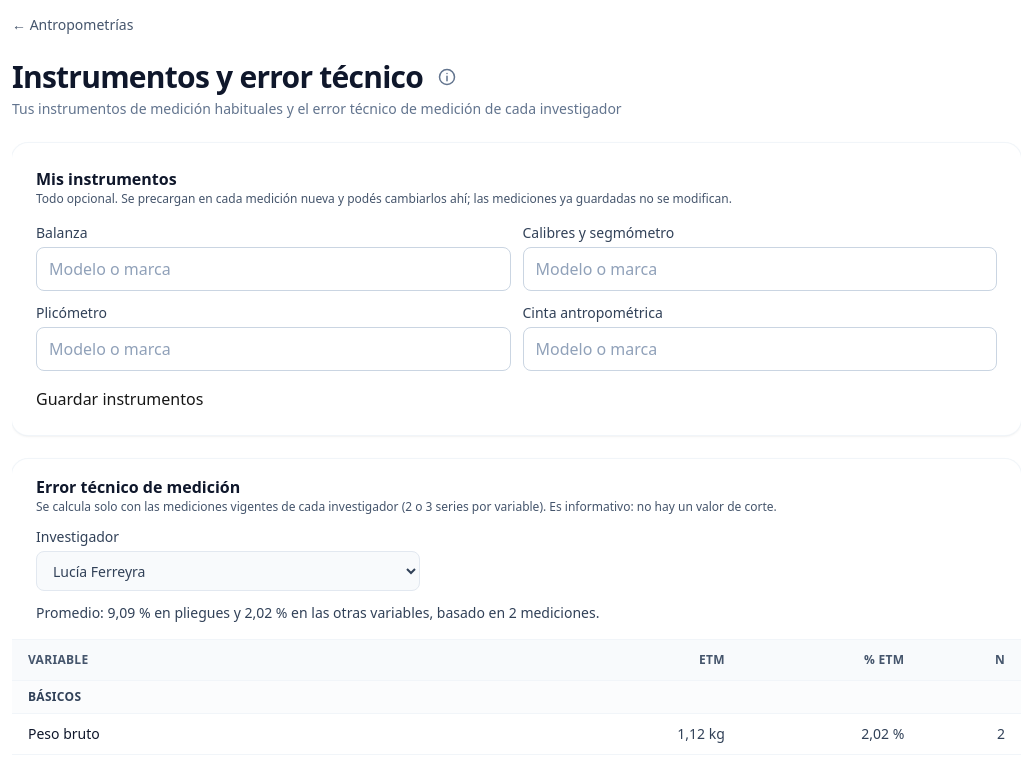
Test: pantalla "Instrumentos y error técnico" › se puede ver el de otro investigador; si no tiene mediciones vigentes lo explica
Select "Martín Sosa" in the dropdown labelled "Investigador" at (228, 571), box [36,551,420,591]
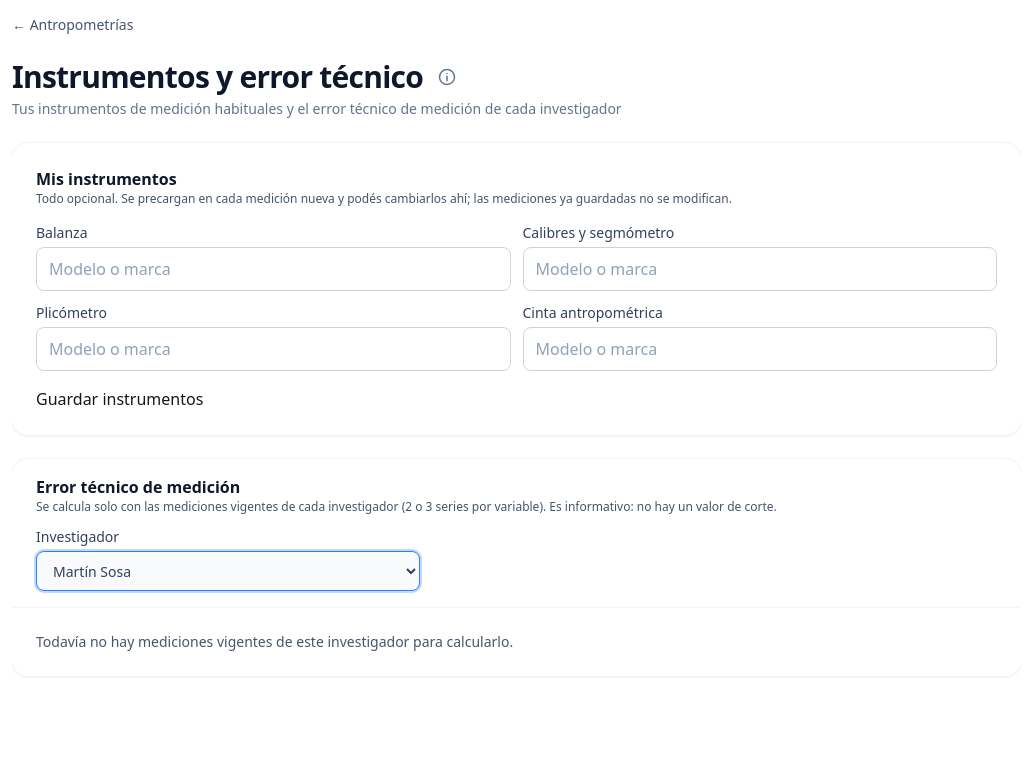
Result: the text "Todavía no hay mediciones vigentes de este investigador para calcularlo." is shown at [36,632,513,651]
